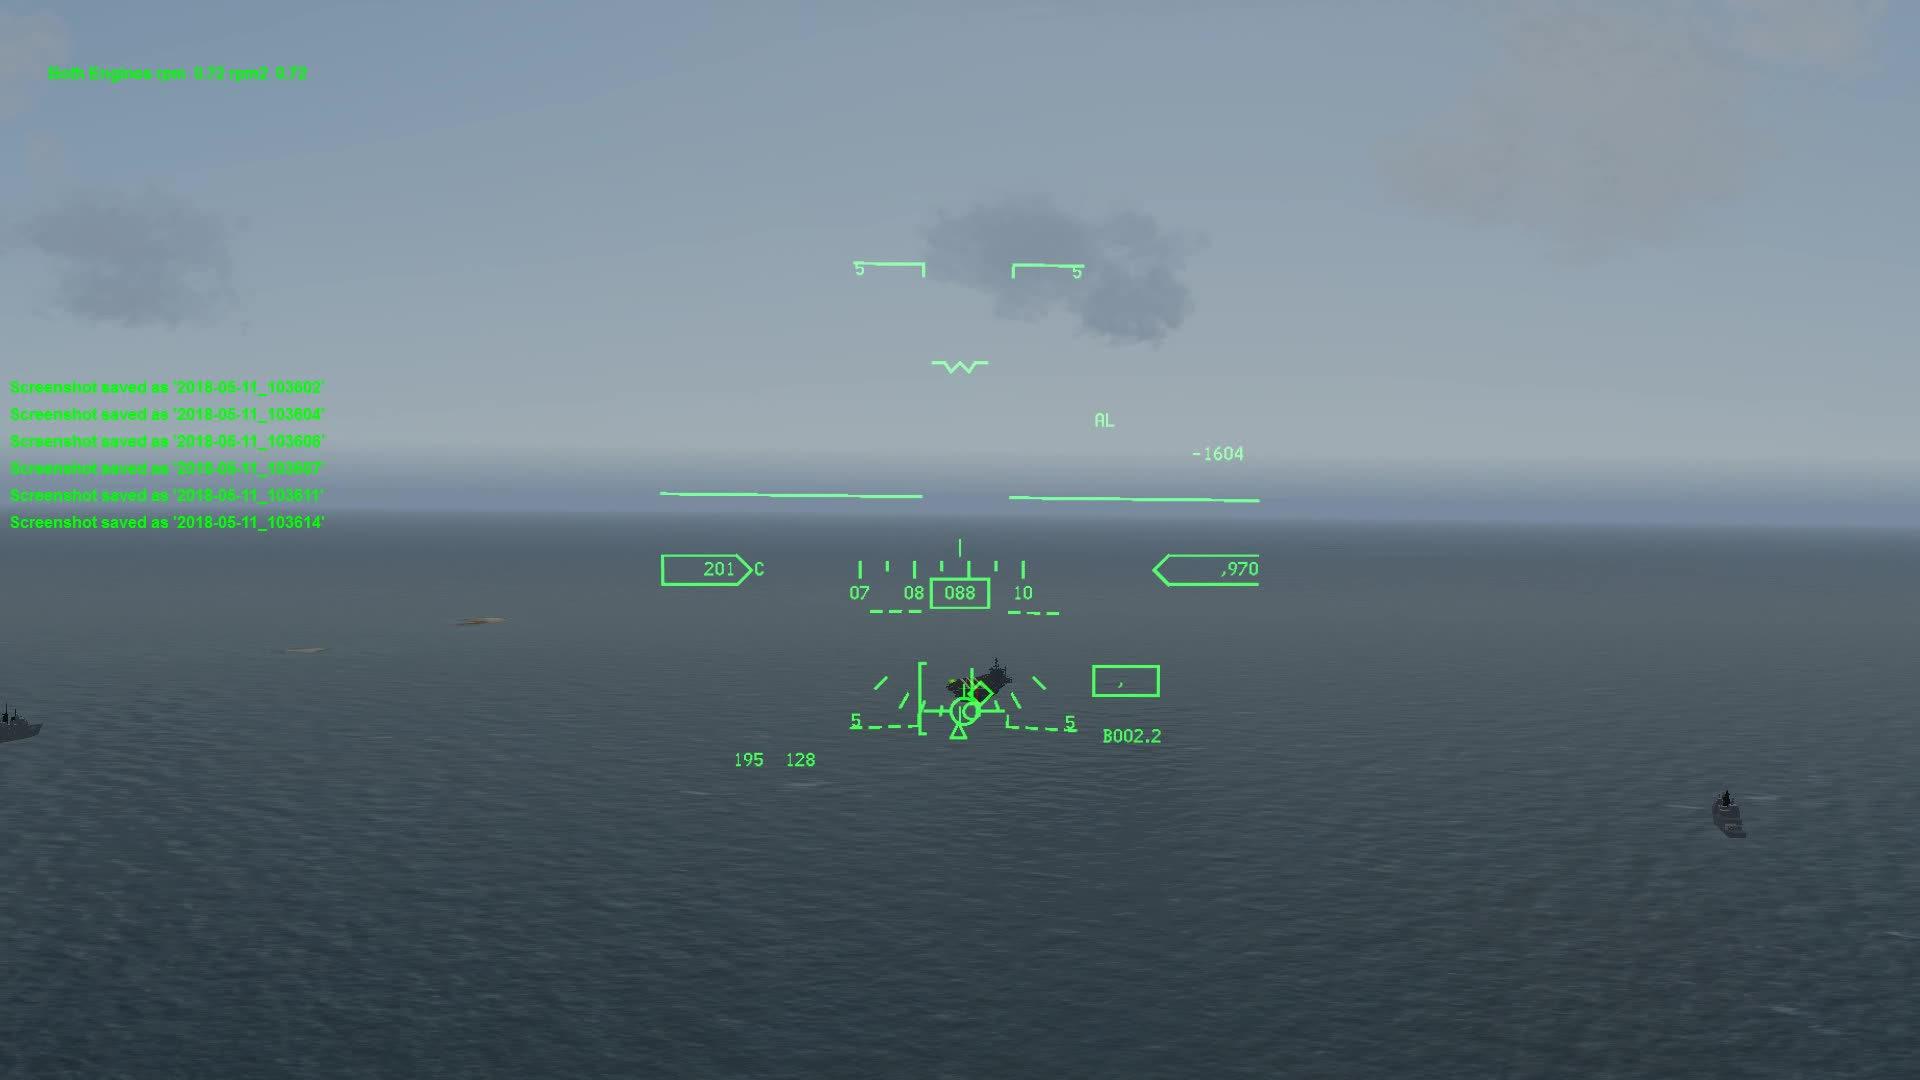speed vector: (932, 683, 1007, 724)
